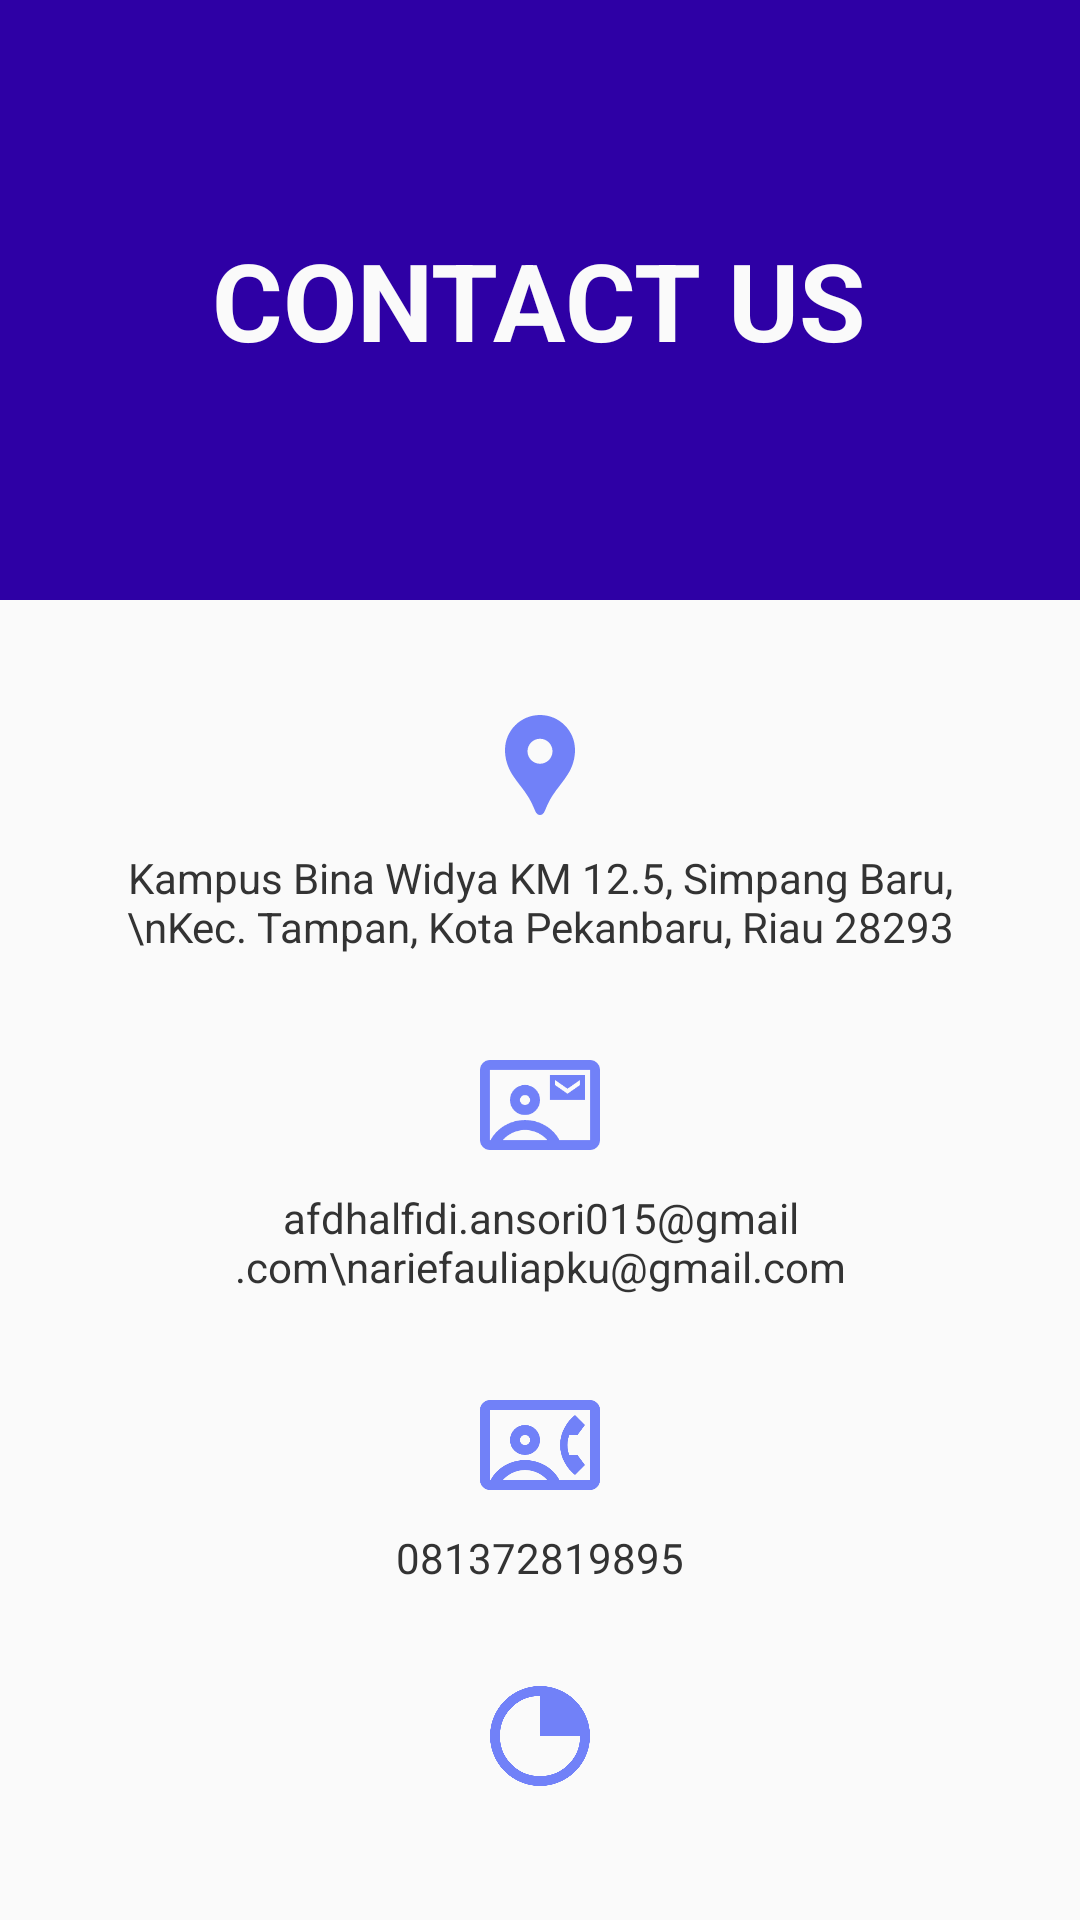

Named icons in this screenshot (1080x1920) and their centers, [x,y]:
clock loader: [540,1736]
contact mail: [540,1105]
contact phone: [540,1445]
location pin: [540,765]
